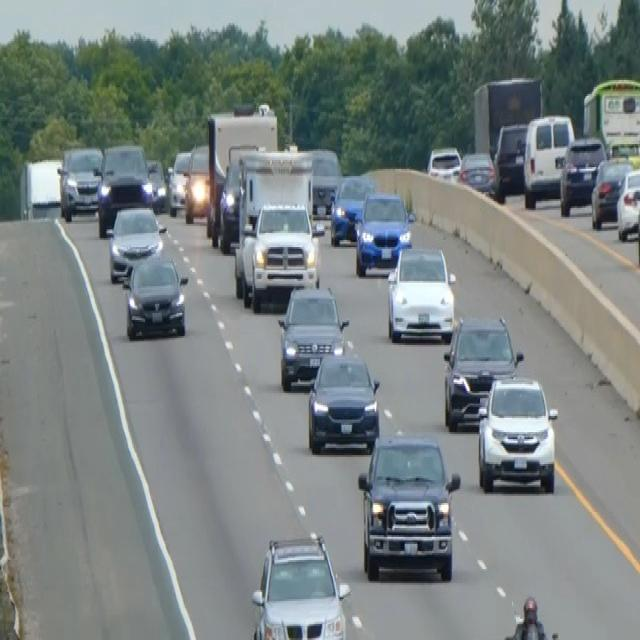bus: (581, 75, 639, 160)
car: (249, 532, 351, 638), (476, 372, 558, 494), (442, 311, 522, 430), (306, 343, 380, 453), (277, 281, 348, 389), (386, 242, 456, 341), (121, 252, 188, 340), (96, 140, 154, 237), (354, 188, 413, 276), (218, 142, 266, 249), (522, 112, 574, 208), (106, 201, 166, 283), (558, 133, 606, 215), (56, 142, 103, 220), (329, 172, 374, 245), (590, 153, 634, 227), (493, 119, 528, 190), (183, 142, 209, 222), (310, 148, 341, 215), (457, 150, 497, 196), (616, 165, 639, 242), (167, 149, 191, 215), (426, 144, 461, 181), (145, 156, 167, 210)
jeep: (356, 430, 461, 583)
motorcycle: (500, 594, 560, 638)
truck: (232, 148, 322, 311), (205, 101, 278, 247)
